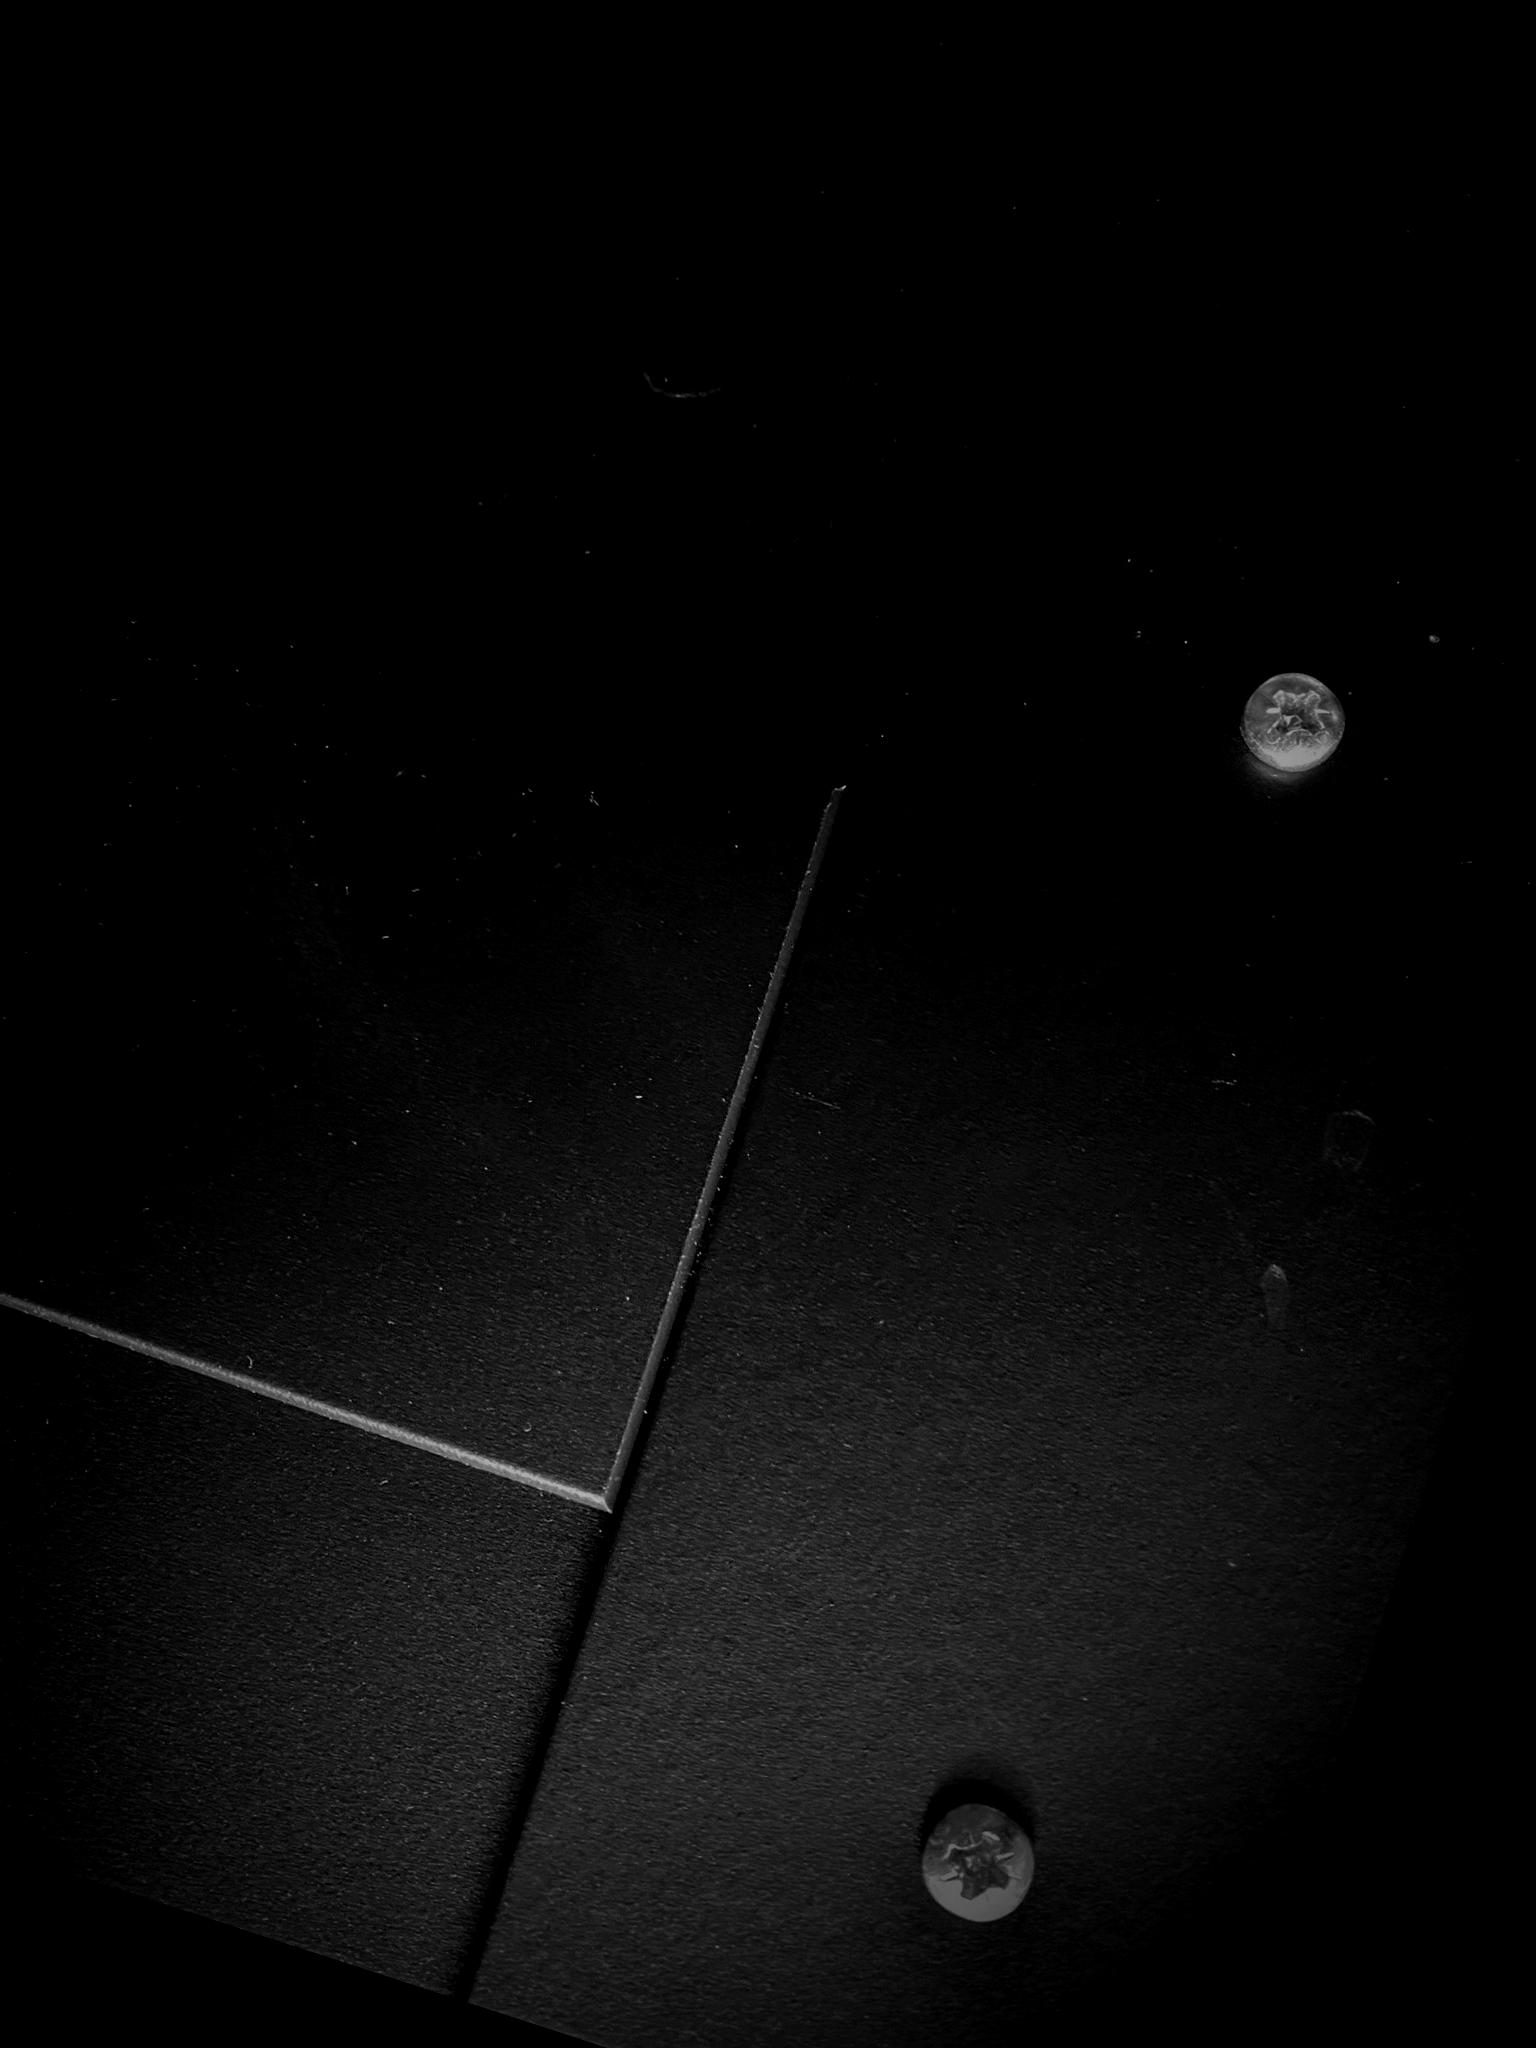screw: (907, 1788, 1055, 1938), (1226, 655, 1360, 785)
